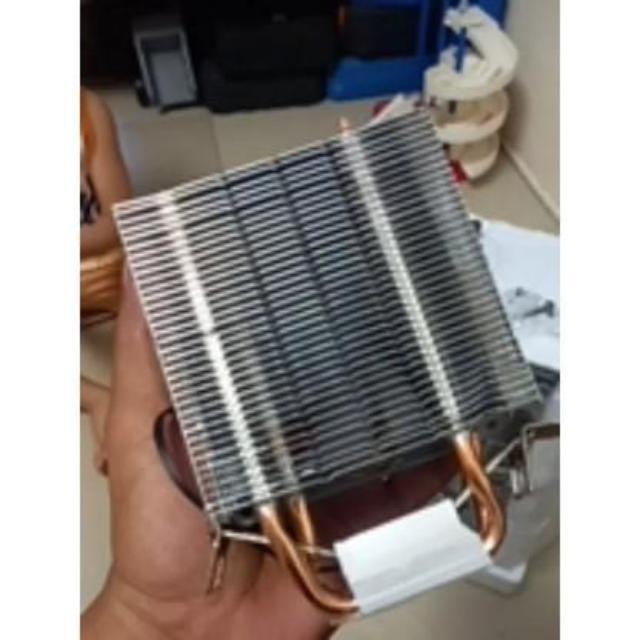CPU_Fan: (120, 107, 548, 615)
